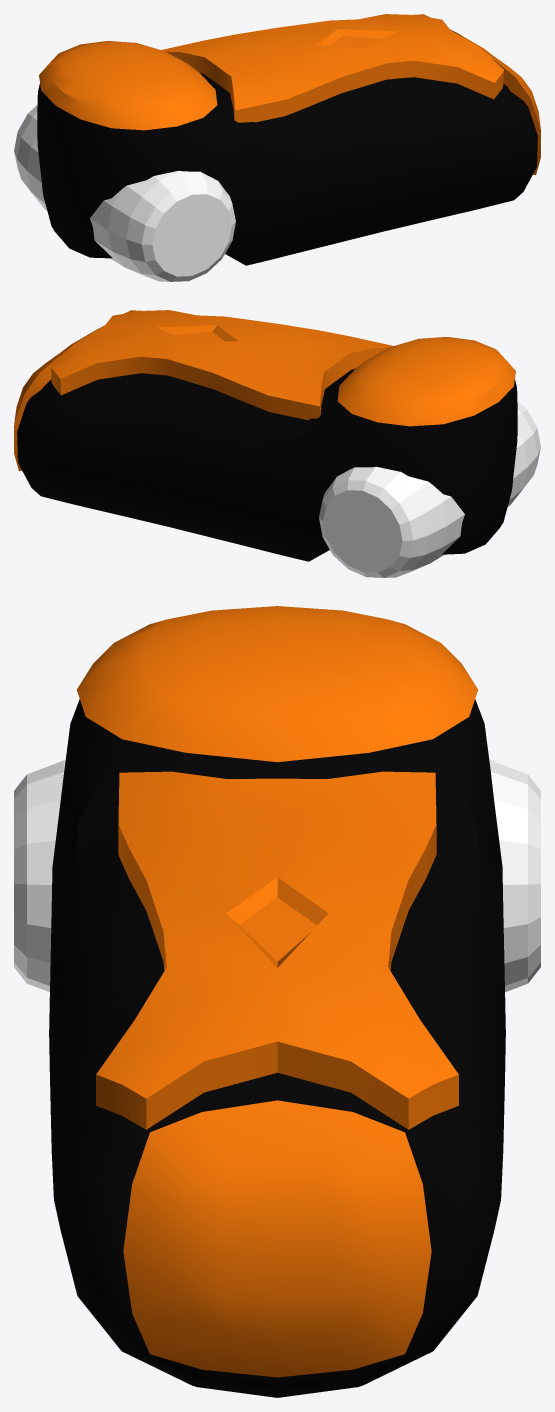
The model's file is new_simHand_id21.fbx.
3 views of the same model, one above another, from view 1: azimuth 30°, elevation 25°; view 2: azimuth 150°, elevation 25°; view 3: azimuth 270°, elevation 25° (orthographic). The views are drawn at different scales.
Parts seen in each view (by area): view 1: Cube.009, Cylinder.003; view 2: Cube.009, Cylinder.003; view 3: Cube.009, Cylinder.003.
Boxes of the visible parts, bbox=[...] form: Cube.009: bbox=[37, 14, 540, 265]; Cylinder.003: bbox=[14, 105, 235, 281]; Cube.009: bbox=[14, 310, 517, 561]; Cylinder.003: bbox=[319, 401, 540, 577]; Cube.009: bbox=[49, 606, 505, 1397]; Cylinder.003: bbox=[14, 760, 540, 992].
Size of the model in its own units: 61.23 by 27.26 by 30.93.
